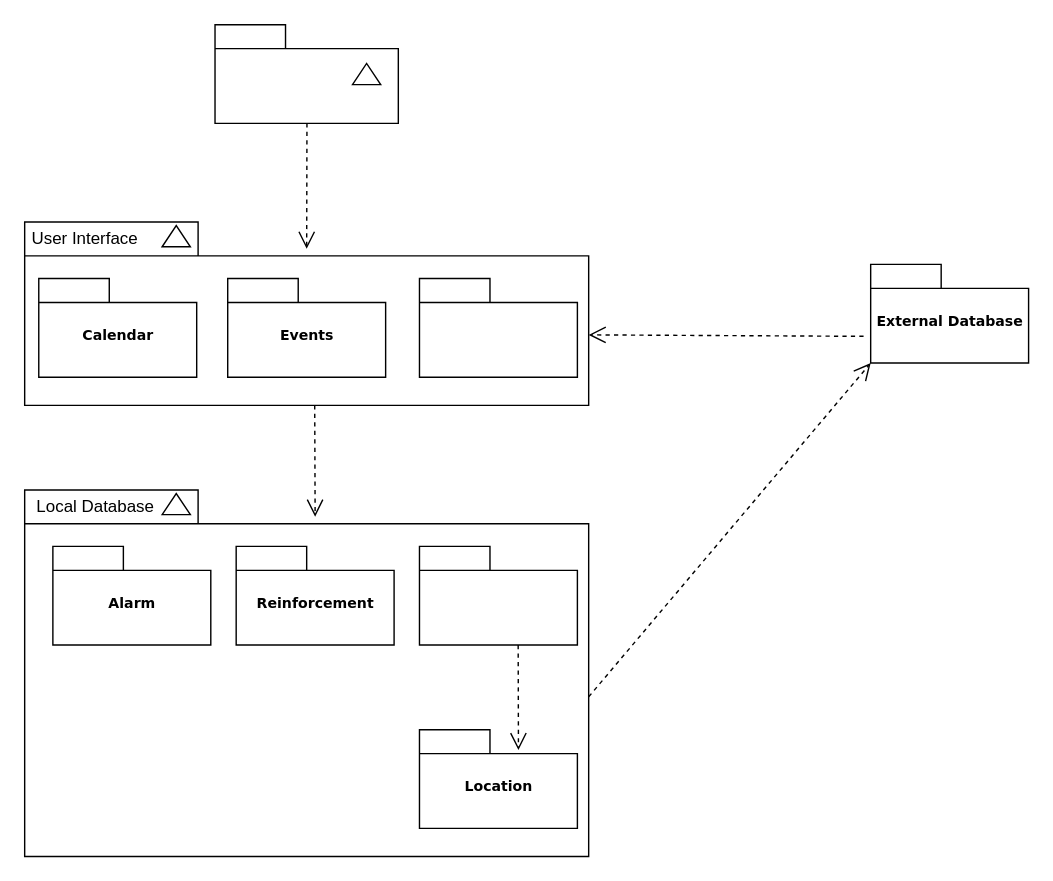
The diagram is 1053 pixels wide and 881 high, and some of its shapes have lost their labels. The box of each missing label's shape, as (x1, y1, x2, y2) in pixels:
Task: (418, 545, 577, 645)
To-Do: (418, 277, 577, 377)
Users: (214, 23, 398, 123)
